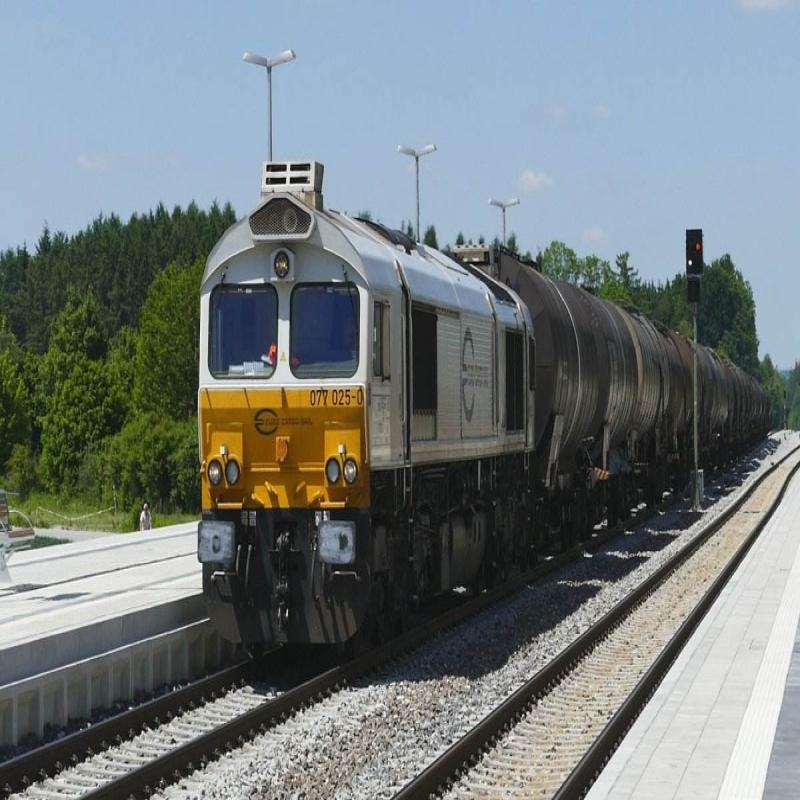train: (207, 160, 658, 589)
